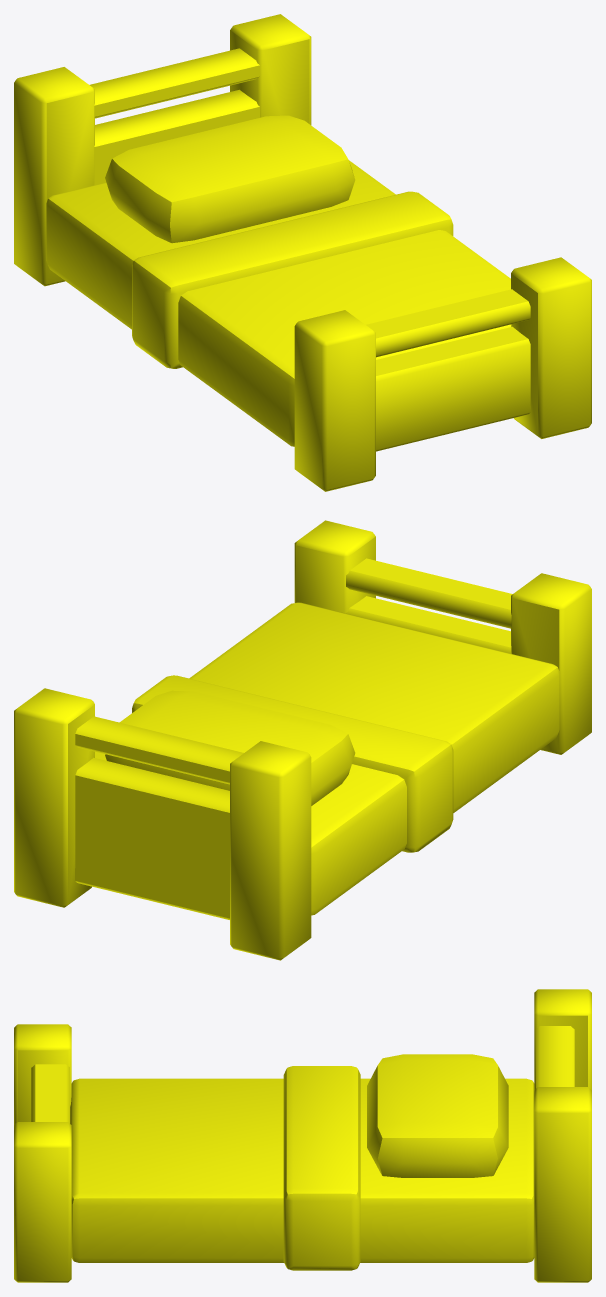
The model's file is kaykit-bed-single-b.glb.
3 views of the same model, one above another, from view 1: azimuth 30°, elevation 25°; view 2: azimuth 150°, elevation 25°; view 3: azimuth 270°, elevation 25° (orthographic). The views are drawn at different scales.
Parts seen in each view (by area): view 1: bed_single_B; view 2: bed_single_B; view 3: bed_single_B.
Part boxes in pixels (x1=…): bed_single_B: x1=14, y1=14, x2=591, y2=491; bed_single_B: x1=14, y1=520, x2=591, y2=960; bed_single_B: x1=14, y1=989, x2=591, y2=1282.
Size of the model in its own units: 1.6 by 0.9999 by 3.
